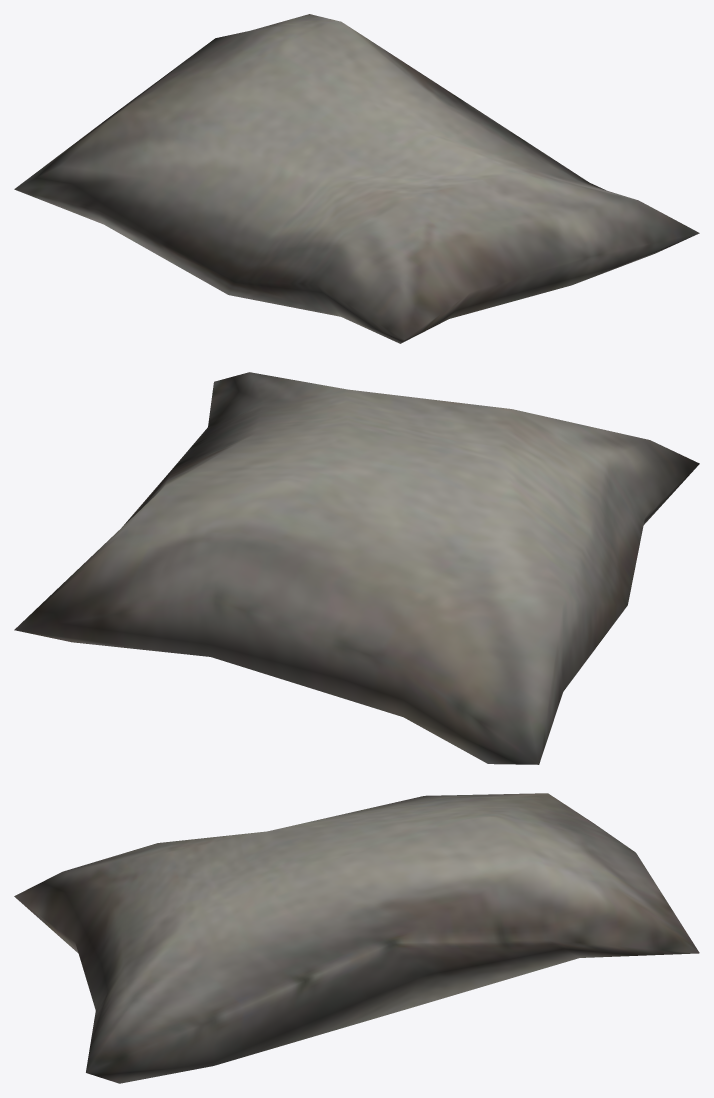
The model's file is Map01_ZaWu_ShaDai.FBX.
3 renders of one model, top to bottom at view 1: azimuth 30°, elevation 25°; view 2: azimuth 150°, elevation 25°; view 3: azimuth 270°, elevation 25°, orthographic. The views are drawn at different scales.
Visible parts, largest first — view 1: Map01_ZaWu_ShaDai; view 2: Map01_ZaWu_ShaDai; view 3: Map01_ZaWu_ShaDai.
Part boxes in pixels (<box>): Map01_ZaWu_ShaDai: <box>14,14,699,343</box>; Map01_ZaWu_ShaDai: <box>14,372,699,764</box>; Map01_ZaWu_ShaDai: <box>14,793,699,1083</box>.
Bounding box in the file's own units: 136 × 50.44 × 154.
